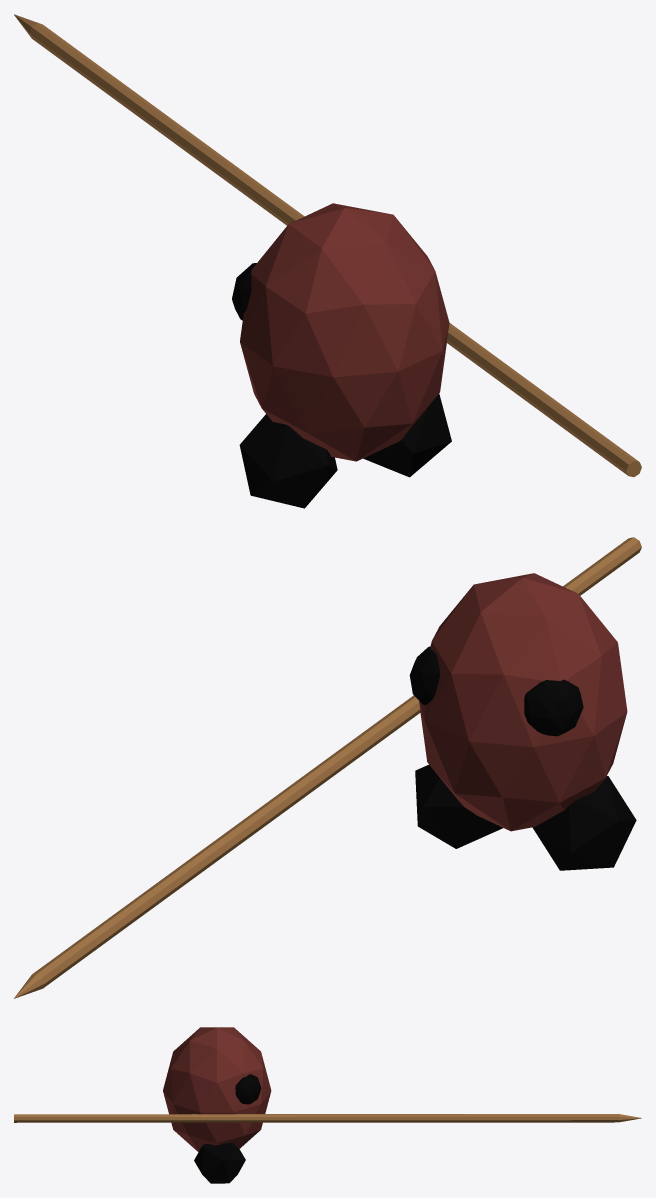
Rendered from walk.f0016.glb.
The picture shows the model from 3 angles, top to bottom: view 1: azimuth 30°, elevation 25°; view 2: azimuth 150°, elevation 25°; view 3: azimuth 270°, elevation 25°; orthographic projection. The views are drawn at different scales.
Parts seen in each view (by area): view 1: Body.001; view 2: Body.001; view 3: Body.001.
Part boxes in pixels (x1,y1,x2,y2): Body.001: [14, 14, 641, 508]; Body.001: [14, 537, 641, 998]; Body.001: [14, 1027, 641, 1183].
Size of the model in its own units: 2.17 by 2.88 by 11.56.
1 material, 1 textured.
